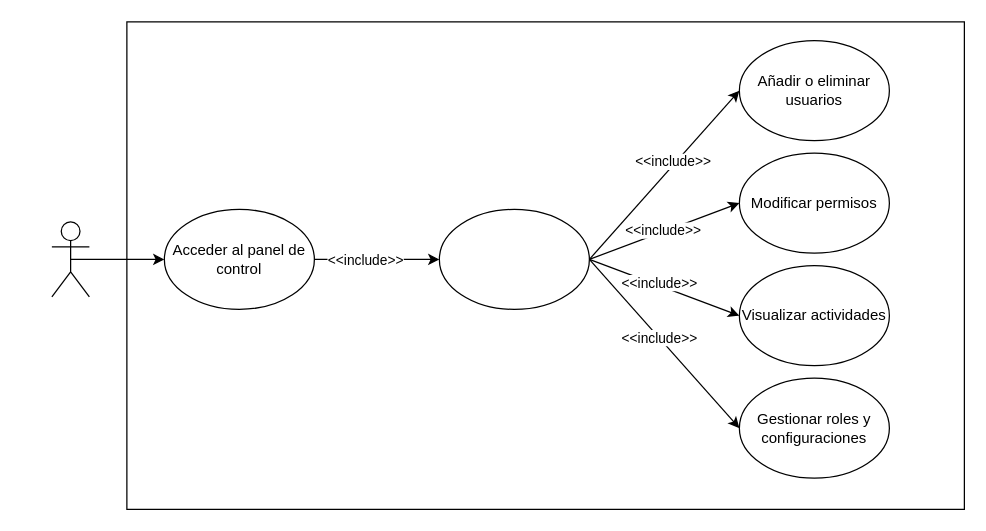
Image size: 986x531. Some labels were removed from this diagram. Each missing label, with the box of its shape:
Gestionar usuarios: (438, 208, 589, 309)
Usuario Admin: (51, 221, 89, 297)
